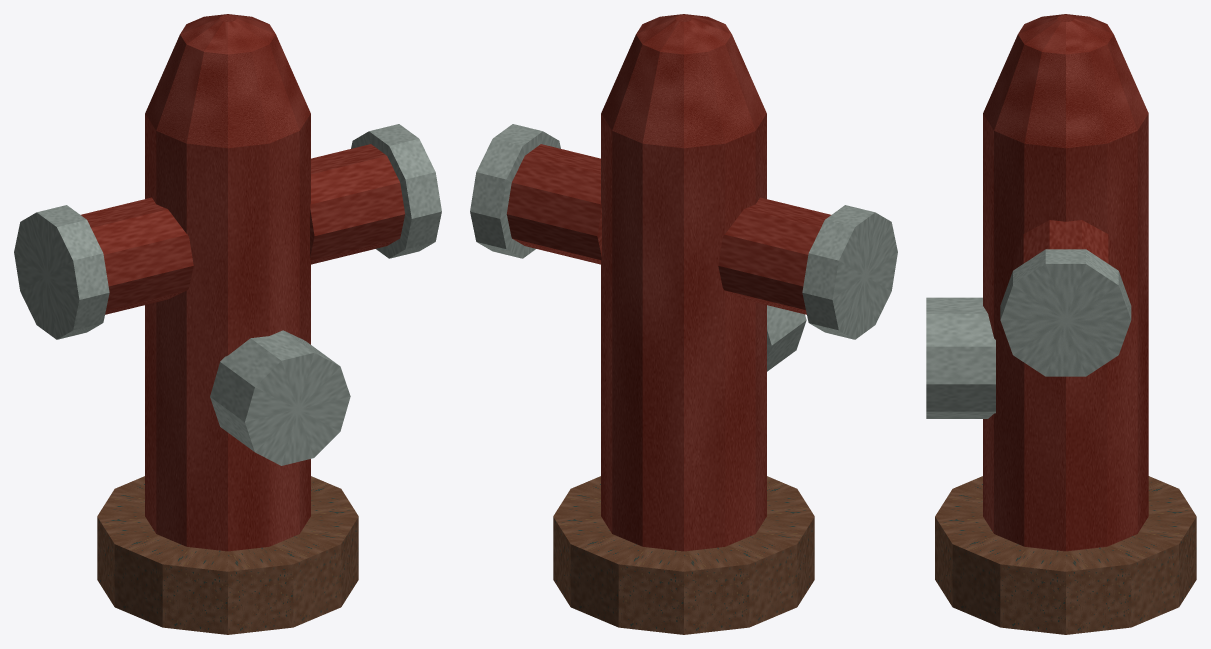
File: Hydrant.glb
The picture shows the model from 3 angles, left to right: view 1: azimuth 30°, elevation 25°; view 2: azimuth 150°, elevation 25°; view 3: azimuth 270°, elevation 25°; orthographic projection.
Parts seen in each view (by area): view 1: Hydrant; view 2: Hydrant; view 3: Hydrant.
Boxes of the visible parts, left/top/right/bottom form: Hydrant: left=14, top=14, right=441, bottom=634; Hydrant: left=470, top=14, right=897, bottom=634; Hydrant: left=926, top=14, right=1196, bottom=634.
Size of the model in its own units: 0.48 by 0.71 by 0.31.
3 materials, 3 textured.
